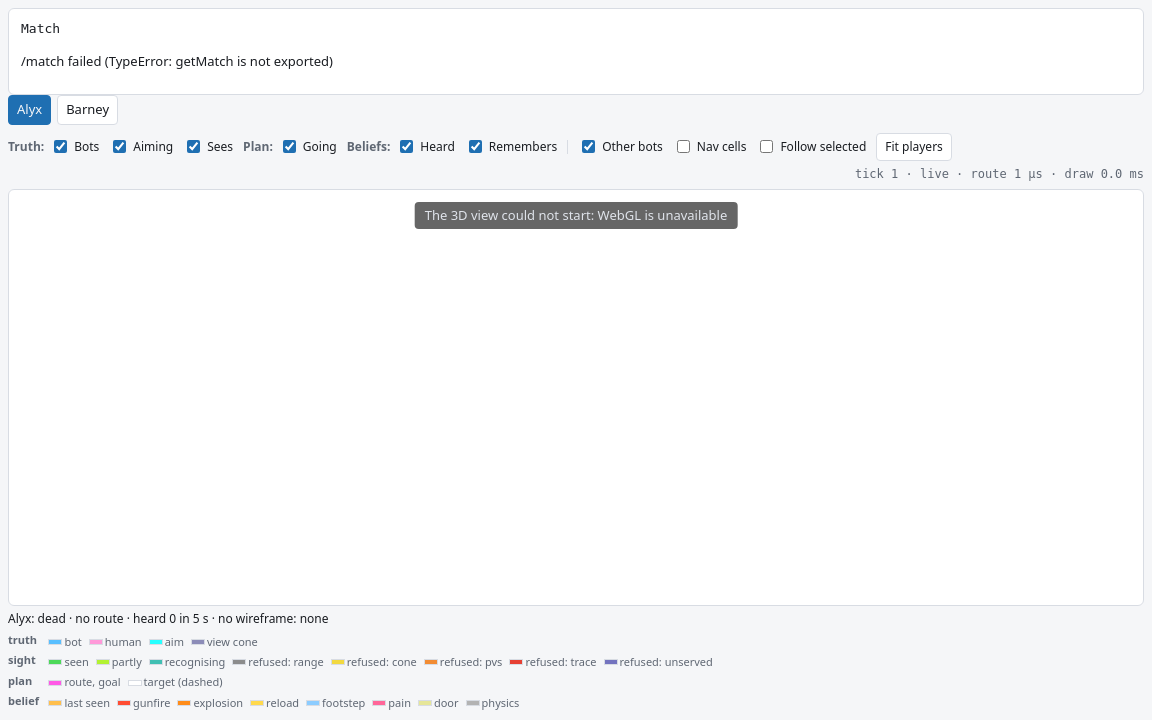
Test case: shares one selection between the bot buttons and the 3D panel
Expected: the text with test id "world-doing" shows "Alyx", [8, 610, 31, 627]
Click the button "Barney": click(88, 110) [57, 95, 118, 124]
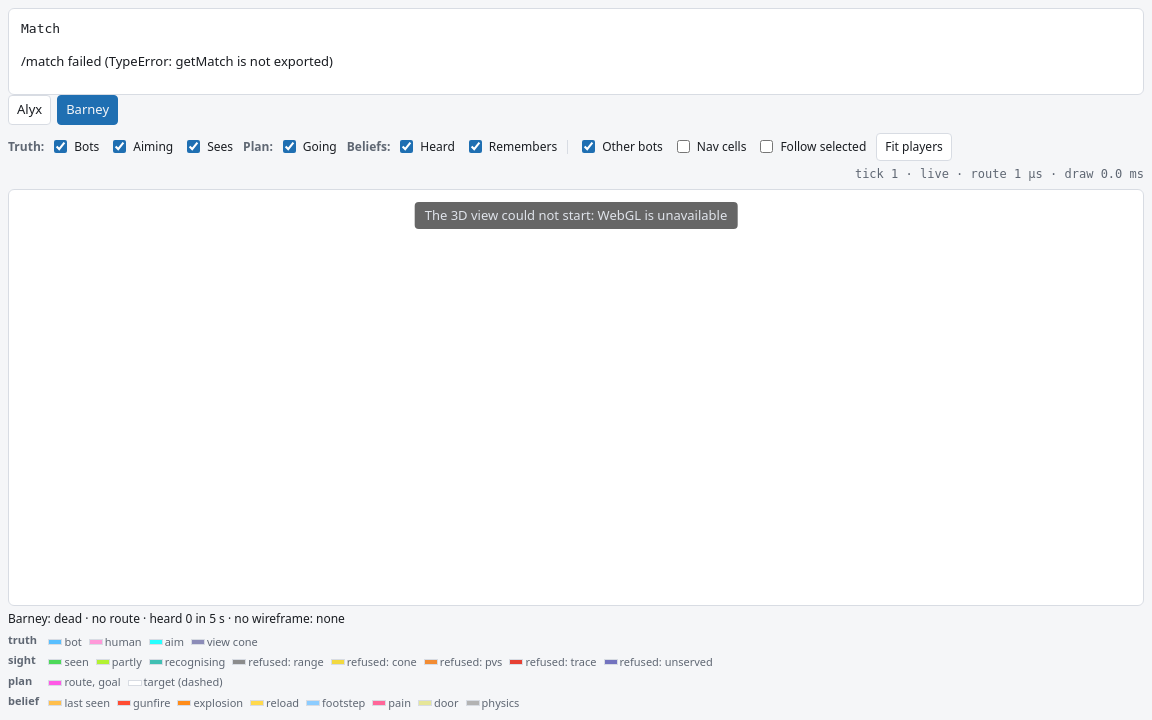
Now the text with test id "world-doing" shows "Barney", box [8, 610, 48, 627]
